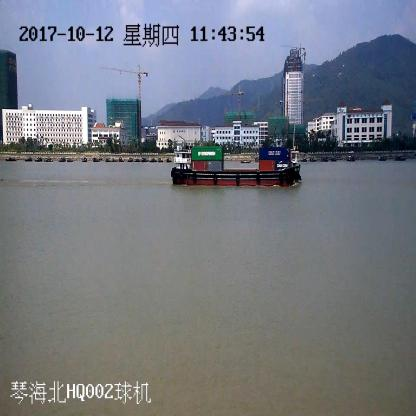Container Ship: (170, 143, 300, 186)
